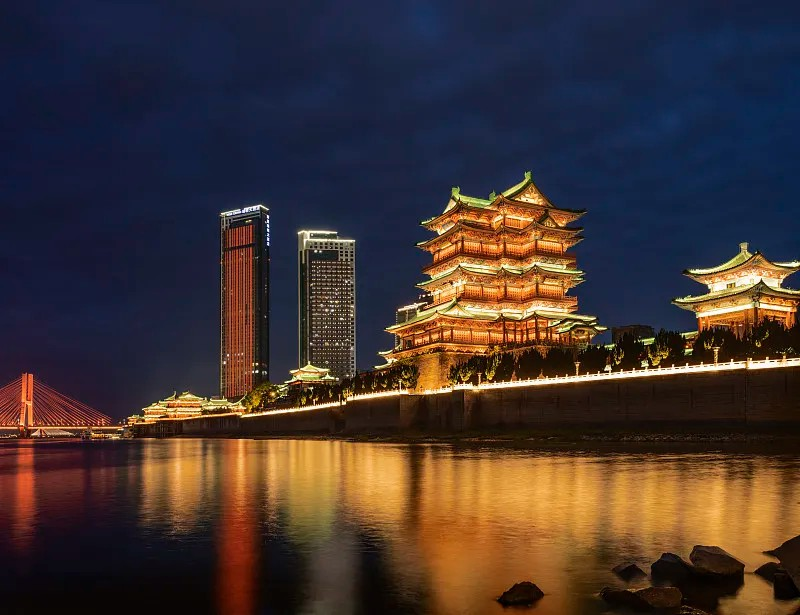Teng: (374, 170, 608, 370)
